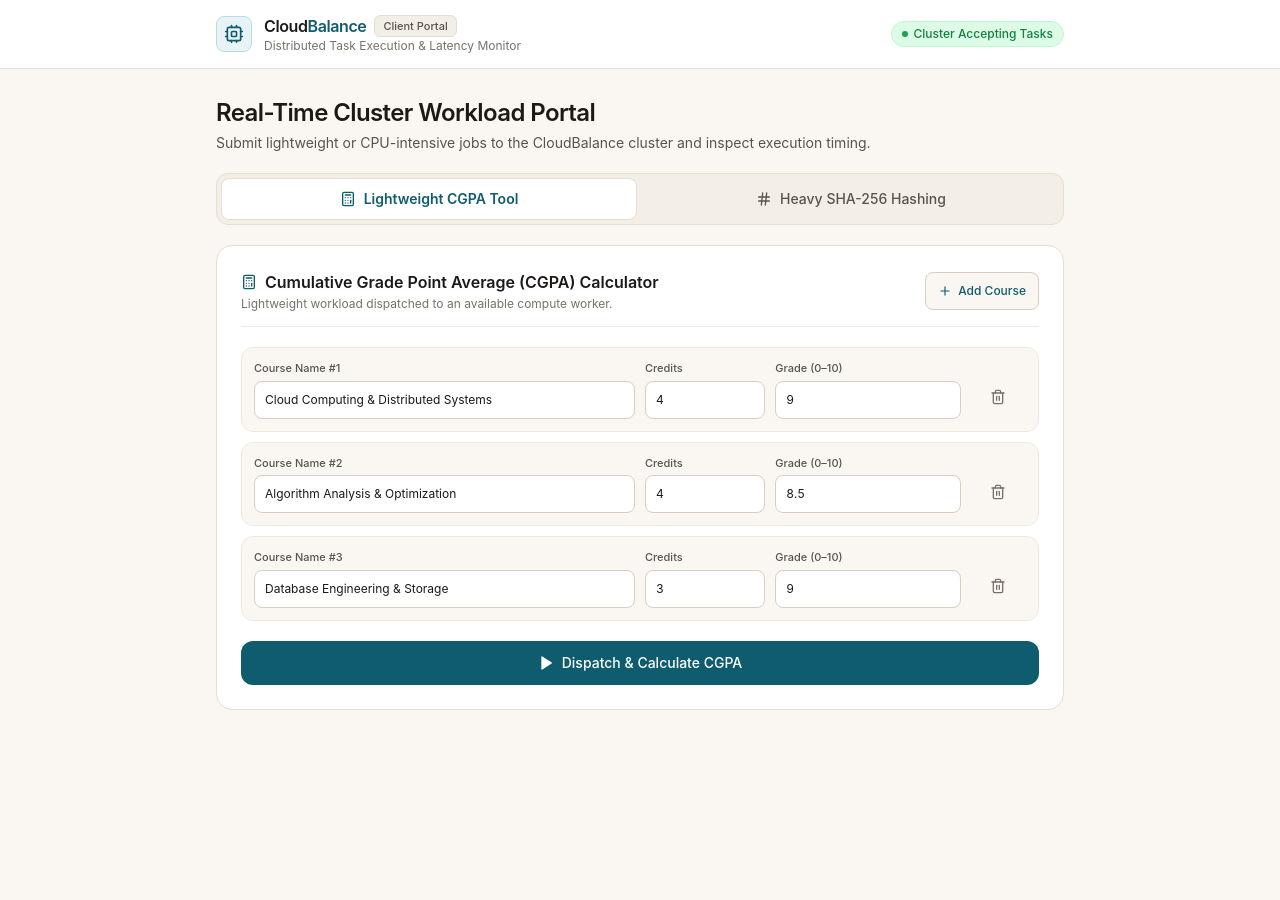
CloudBalance Frontend Components & Pages › validates invalid CGPA input, handles 503 rejection, and shows clear 409 draining message on PublicTasksPage (/)
Replace the text in the 2nd number field with "12". click: (868, 400)
box: 775,380 -> 961,418
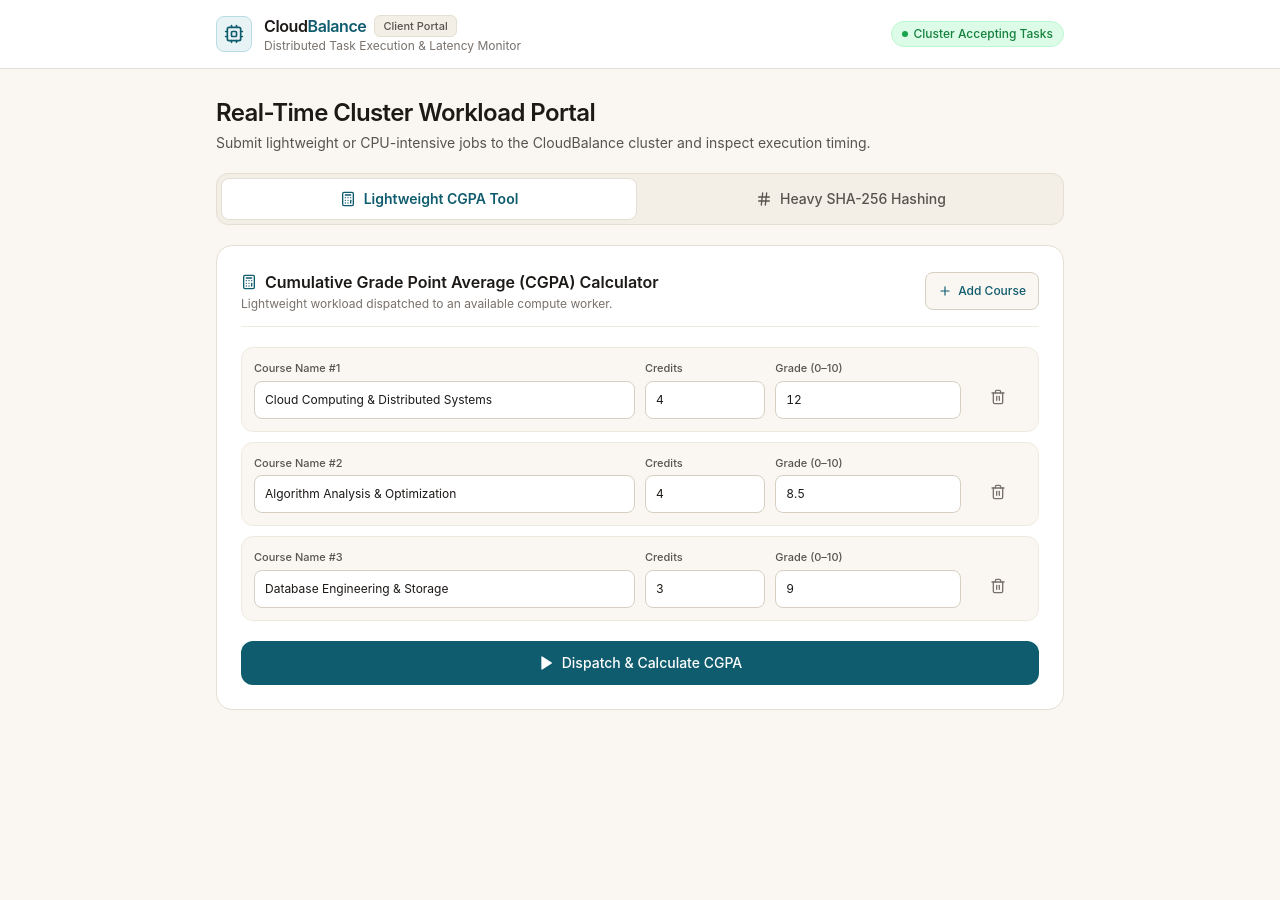
Click the button "Dispatch & Calculate CGPA". click: (640, 662)
box: 241,640 -> 1039,684
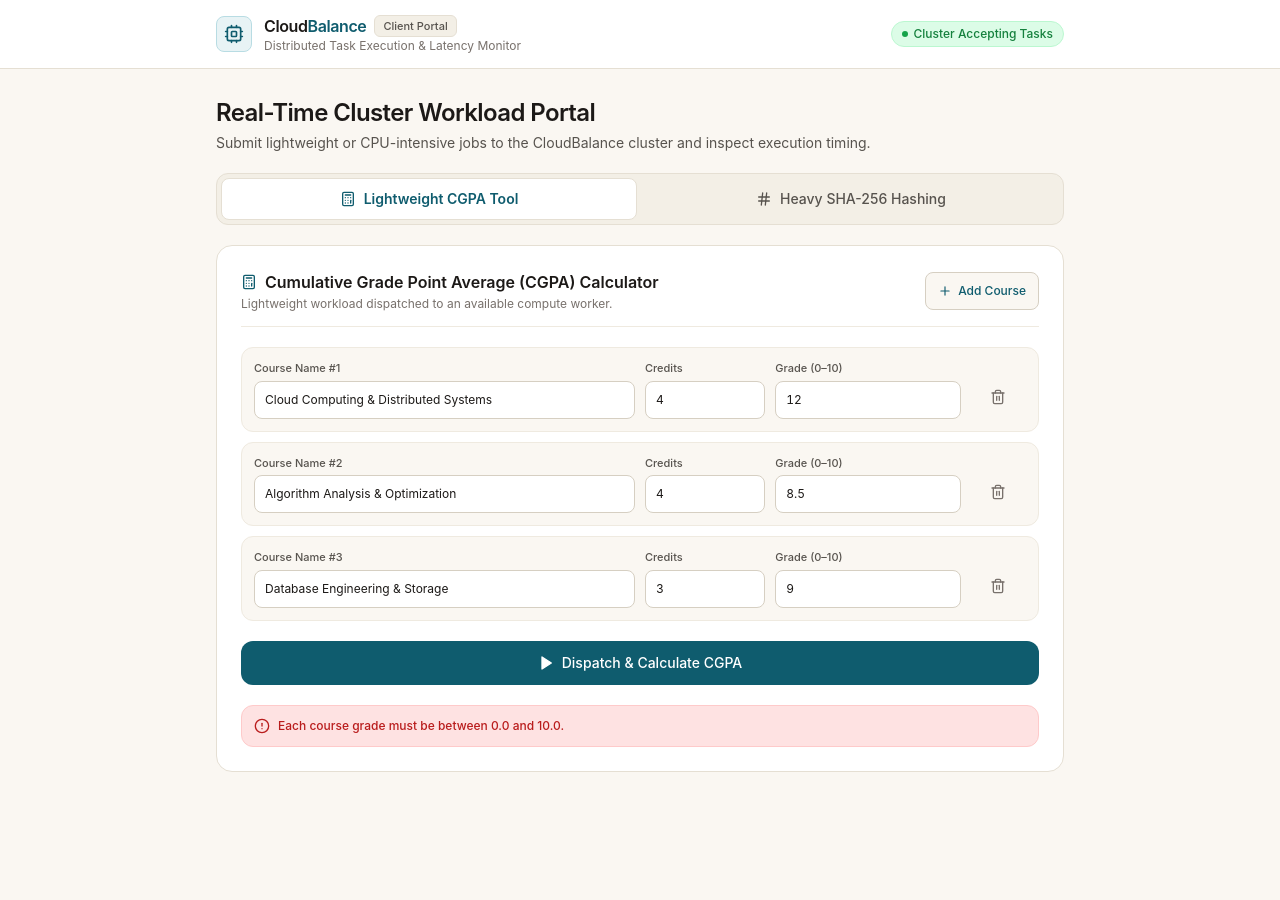
Now the text "Each course grade must be between 0.0 and 10.0." is shown, box 278,718 -> 564,734
Note: Valid grade sends request and surfaces worker 503 rejection accurately (not '200 OK')
Replace the text in the 2nd number field with "9.0". click: (868, 400)
box: 775,380 -> 961,418
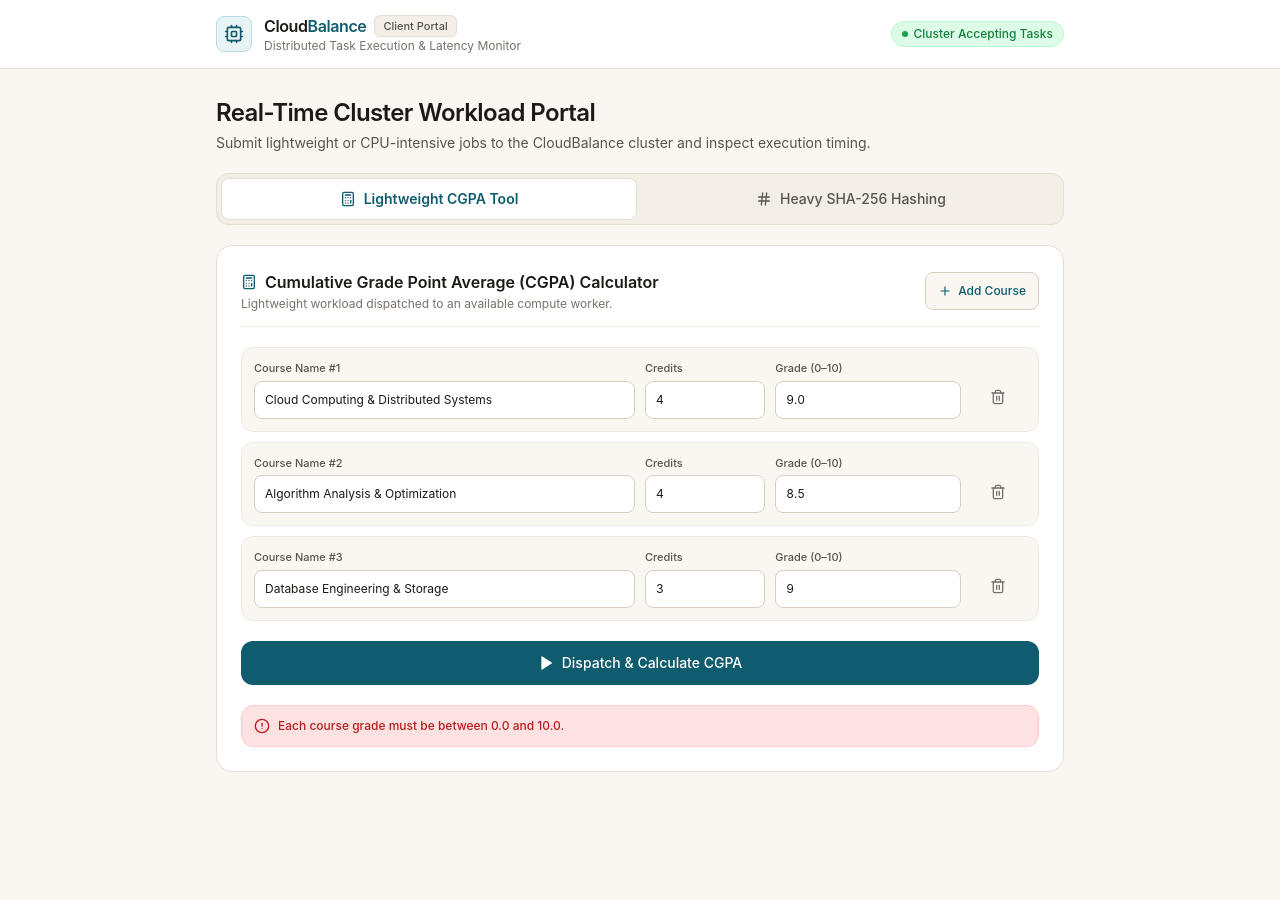
Click the button "Dispatch & Calculate CGPA". click: (640, 662)
box: 241,640 -> 1039,684
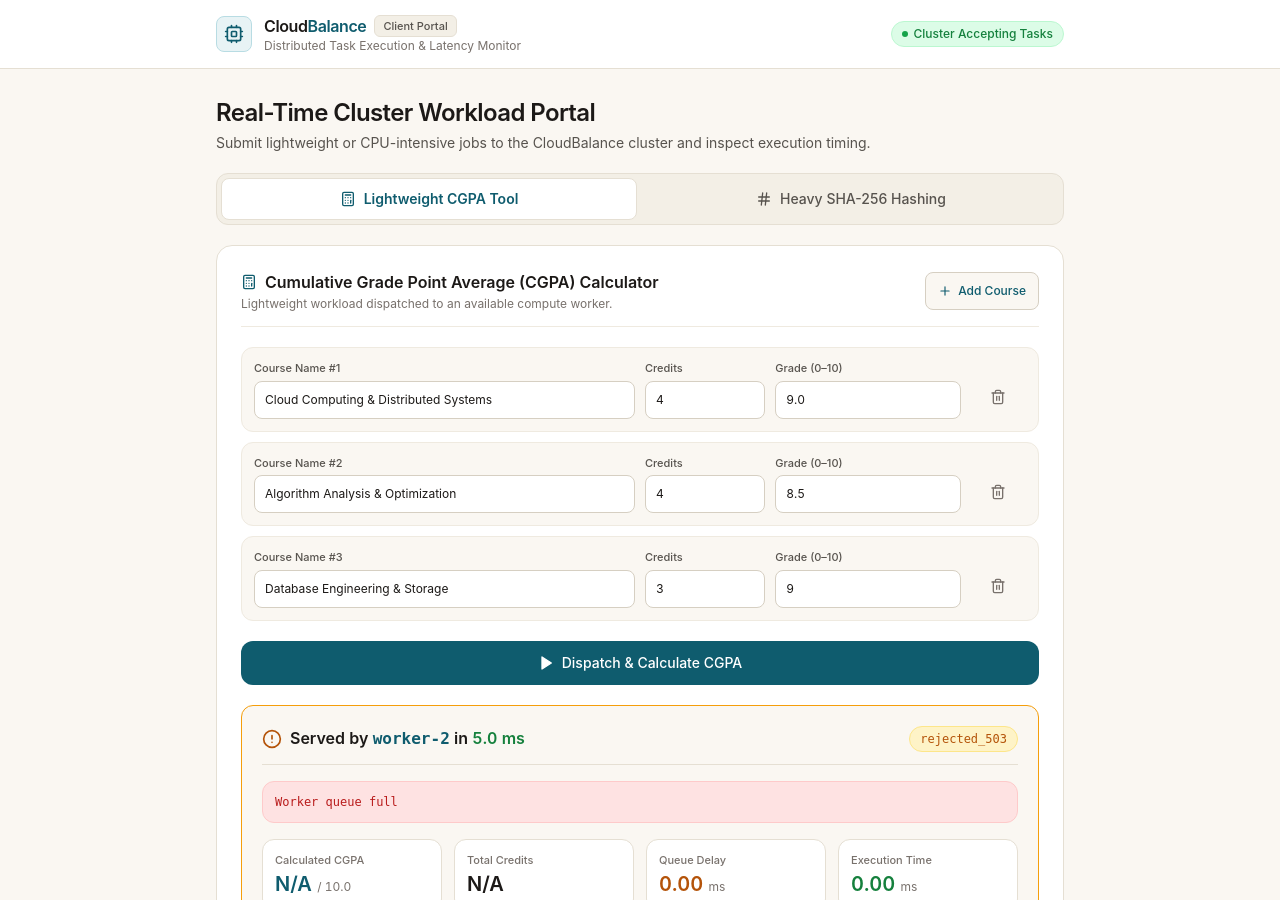
Now the text "rejected_503" is shown, box 909,726 -> 1018,752
Click the button "Dispatch & Calculate CGPA". click: (640, 662)
box: 241,640 -> 1039,684
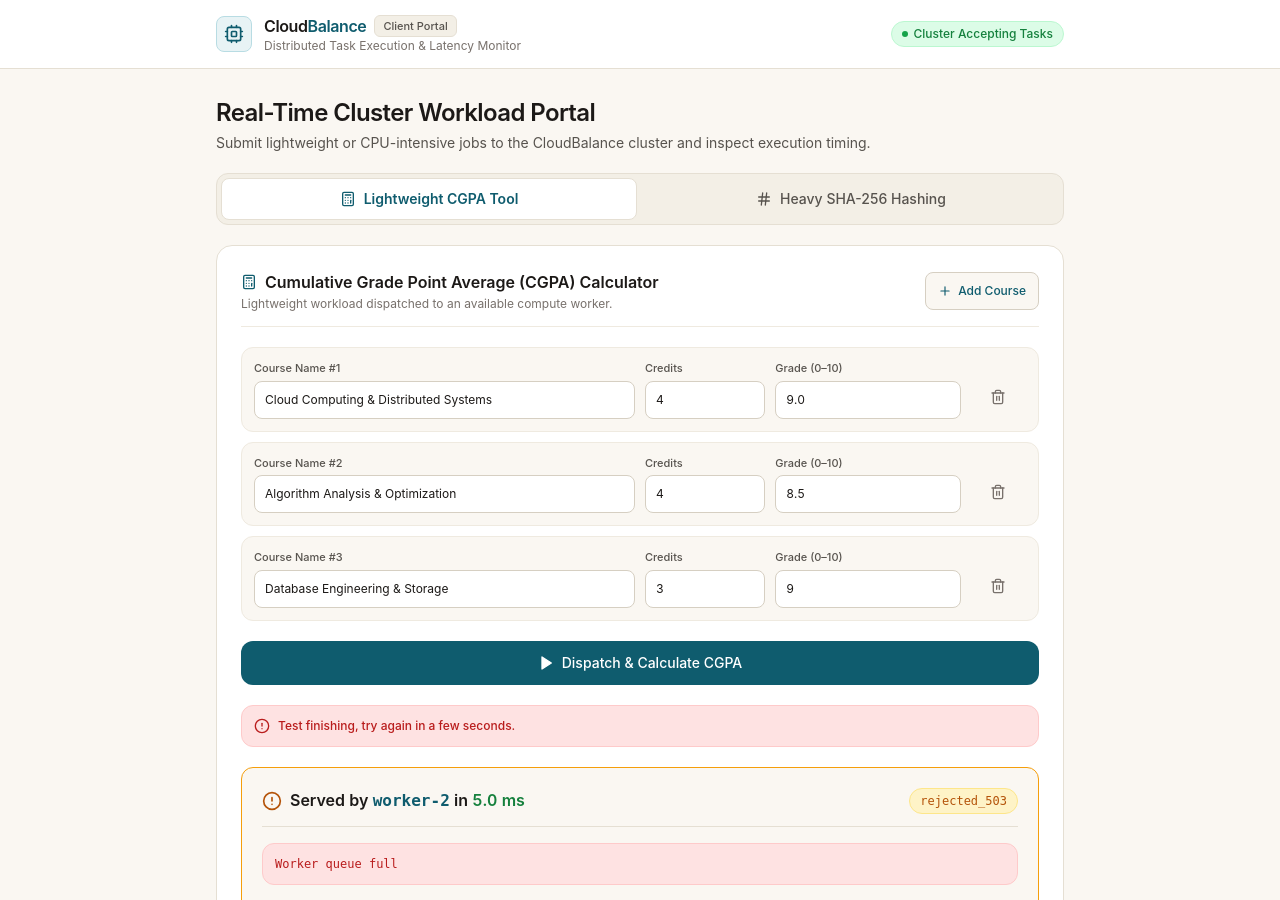
Now the text "Test finishing, try again in a few seconds." is shown, box 278,718 -> 515,734
